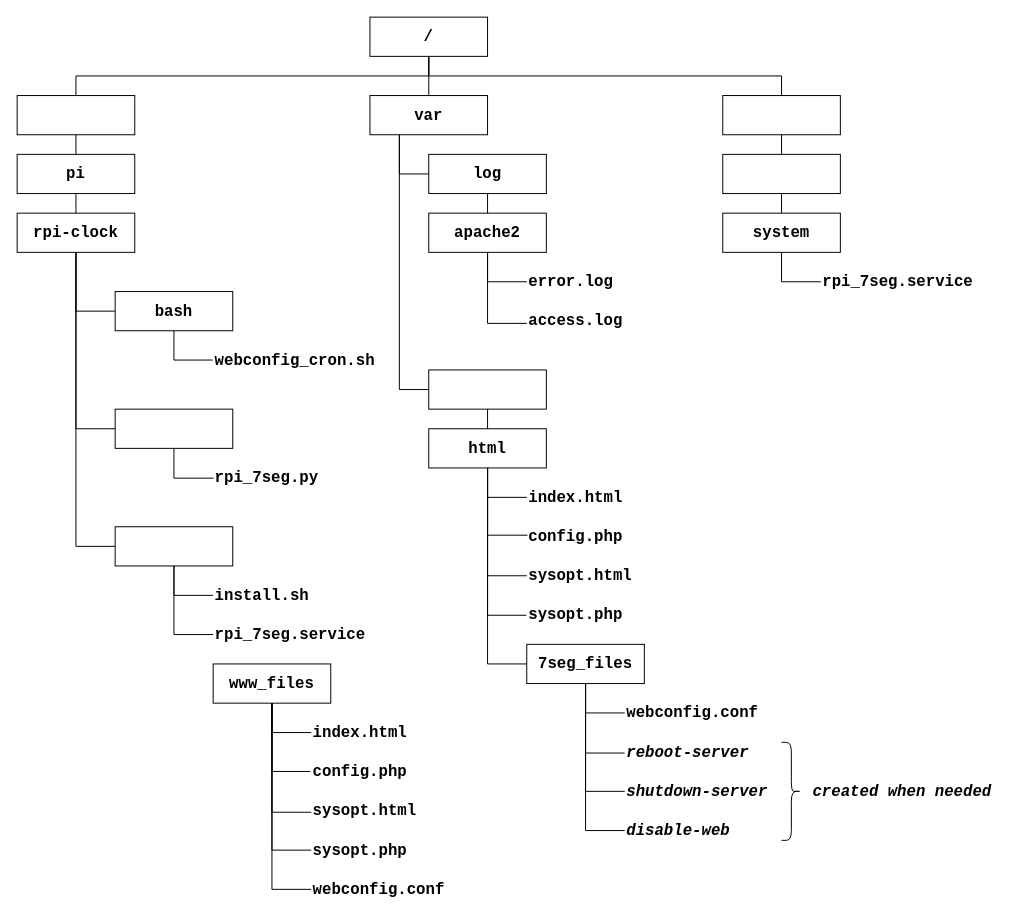
Image size: 1024x916. Some labels were removed from this diagram. The shapes that lost their labels are listed below. From the top down, each one's box as (x1, y1, x2, y2) in pixels, then its label:
(16, 95, 135, 135): home
(722, 95, 840, 135): etc
(722, 153, 840, 194): systemd
(428, 369, 546, 409): www
(114, 408, 233, 448): python
(114, 526, 233, 566): setup
